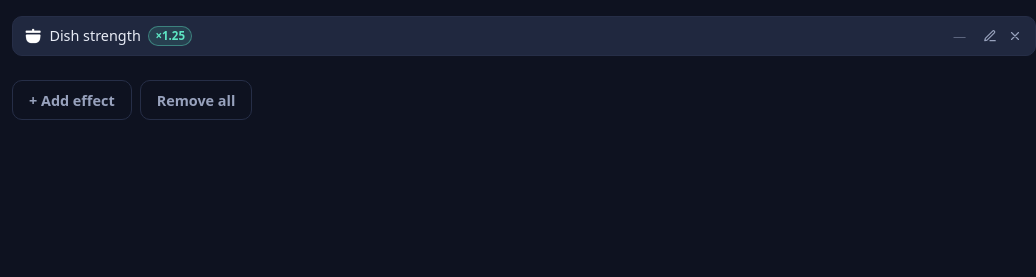
Test: EventTab › edits a row in place and removes all
Click the button named "Edit Dish strength".
click(990, 36)  # box [978,24,1002,48]
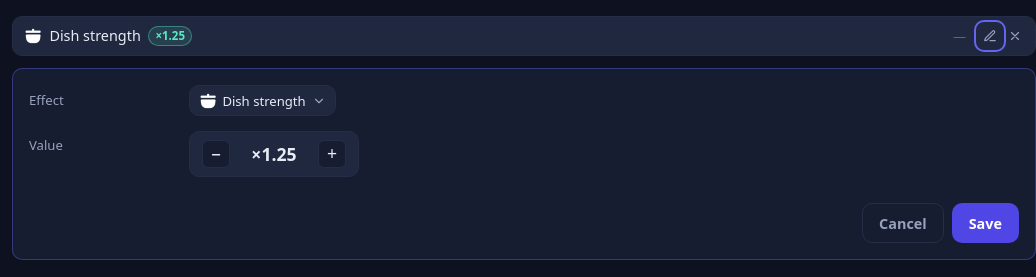
Click the button "+".
click(332, 154)  # box [318,140,346,168]
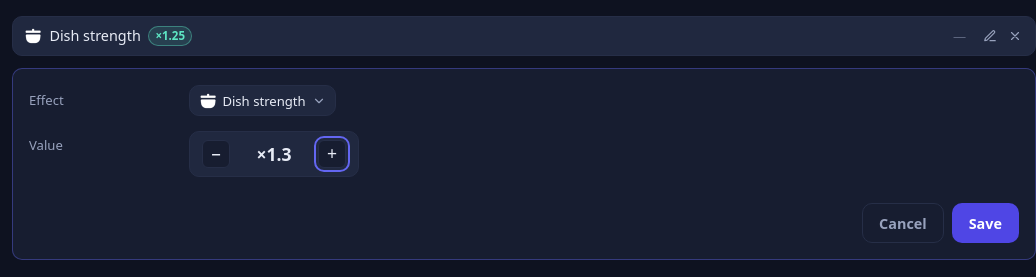
Click the button "Save".
click(985, 223)  # box [952,203,1019,243]
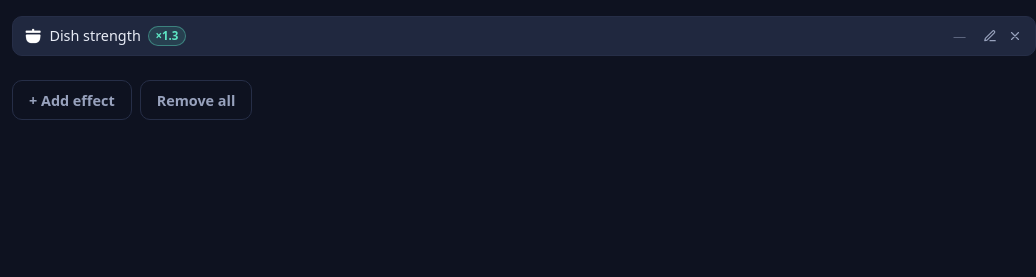
Expected: the number of list items is 1, [12,16,1035,56]
Expected: the list item shows "×1.3", [155,28,178,43]
Click the button "Remove all".
click(196, 100)  # box [140,80,252,120]
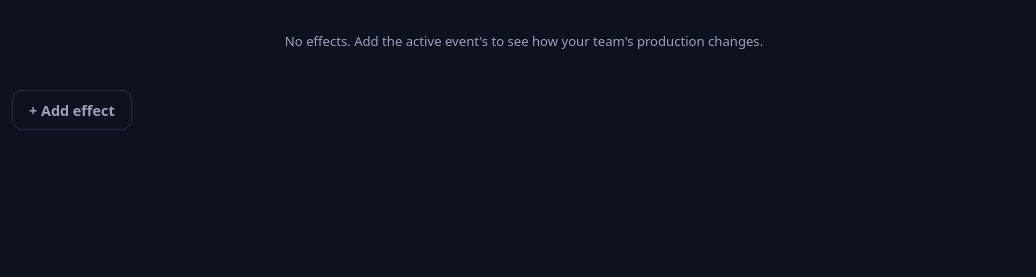
Expected: the message shows "No effects", [285,32,763,50]
